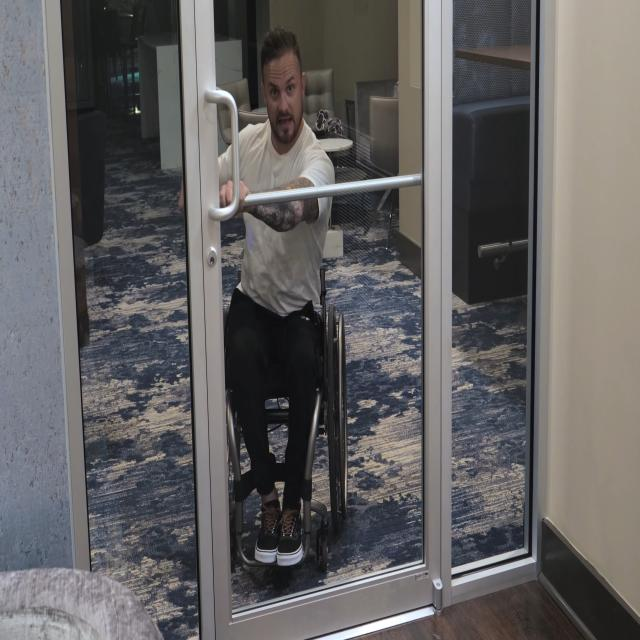wheelchairs: (208, 250, 349, 569), (620, 434, 625, 438)
